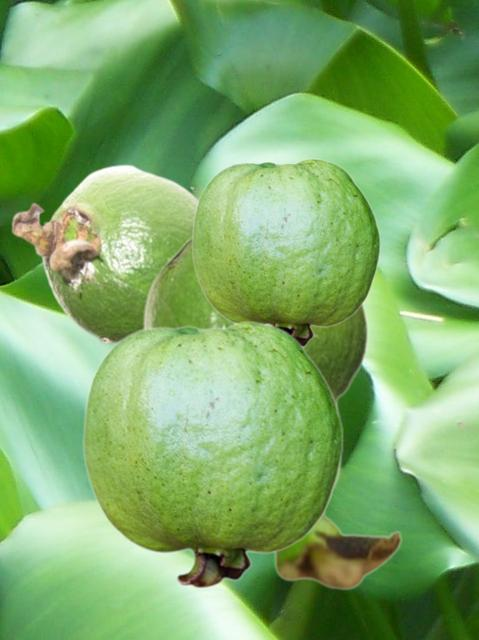guava: (82, 321, 343, 588), (141, 235, 368, 407), (191, 158, 380, 347), (10, 163, 197, 343), (249, 462, 402, 590)
